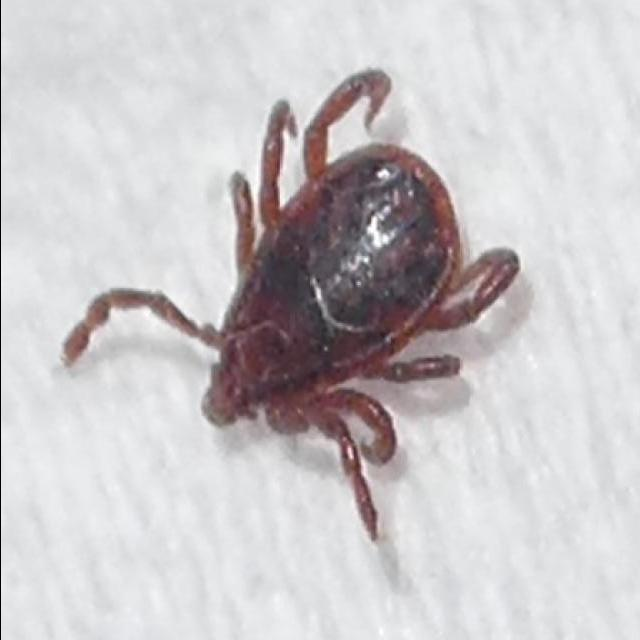Rhipicephalus Sanguineus-M: (59, 69, 519, 542)
